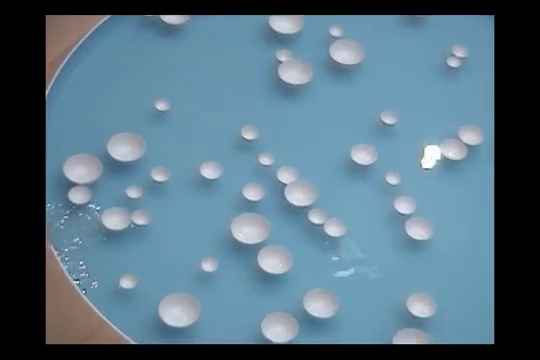bowl: (158, 292, 201, 327), (62, 153, 104, 185), (231, 213, 271, 244), (107, 132, 147, 162), (261, 311, 299, 342), (303, 287, 339, 317), (257, 245, 293, 274), (277, 60, 313, 88), (329, 39, 365, 65), (283, 181, 319, 207), (406, 292, 437, 318), (268, 15, 304, 36), (101, 207, 132, 230), (391, 327, 432, 344), (439, 138, 468, 162), (404, 217, 433, 240), (350, 144, 379, 166), (458, 124, 484, 145), (160, 13, 194, 28), (324, 218, 348, 237), (68, 185, 93, 203), (200, 161, 223, 179), (242, 183, 265, 201), (394, 196, 417, 214), (277, 166, 299, 183), (131, 209, 152, 225), (151, 166, 170, 183), (308, 208, 328, 224), (379, 110, 400, 125), (241, 125, 260, 140), (119, 274, 137, 289), (201, 257, 219, 271), (451, 44, 469, 57), (275, 49, 294, 61), (446, 55, 462, 68), (126, 185, 142, 198), (385, 172, 401, 185), (258, 153, 275, 165), (154, 99, 170, 111), (329, 25, 344, 37)
